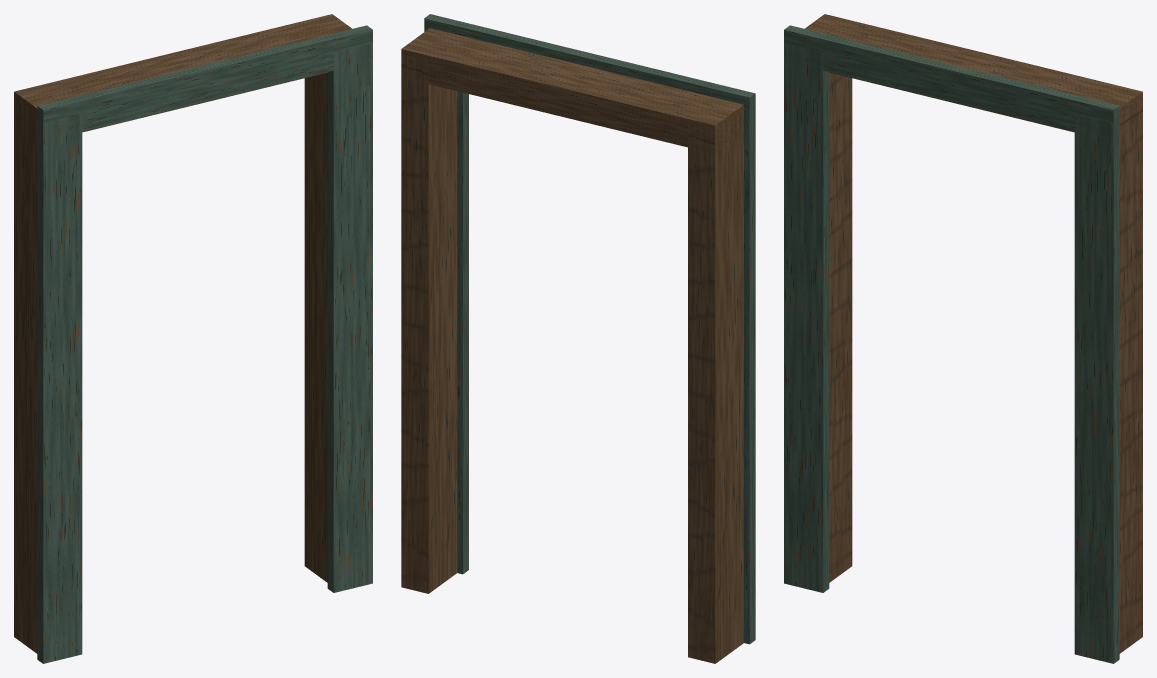
The model's file is DoorFrame.glb.
3 views of the same model, side by side, from view 1: azimuth 30°, elevation 25°; view 2: azimuth 150°, elevation 25°; view 3: azimuth 330°, elevation 25° (orthographic).
Visible parts, largest first — view 1: DoorFrame; view 2: DoorFrame; view 3: DoorFrame.
Boxes of the visible parts, x1=… form: DoorFrame: x1=14, y1=14, x2=372, y2=663; DoorFrame: x1=401, y1=14, x2=755, y2=663; DoorFrame: x1=784, y1=14, x2=1142, y2=663.
Size of the model in its own units: 1.43 by 2.3 by 0.2625.
Materials: 2 (2 with a texture image).
